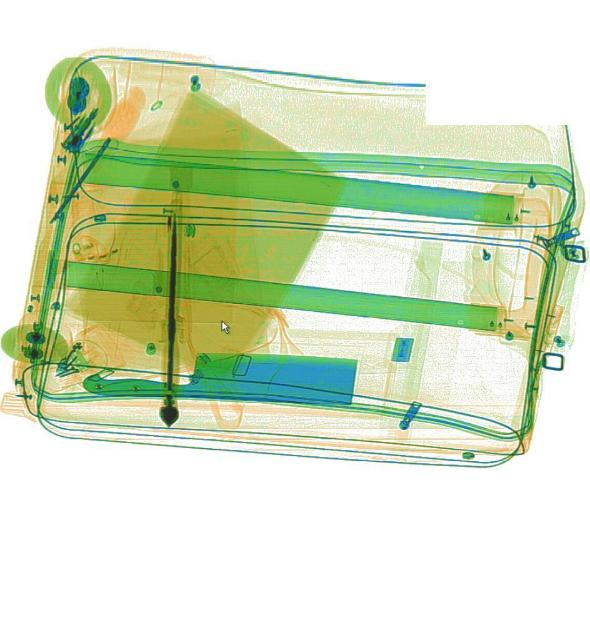Knife: (80, 348, 357, 407), (160, 212, 177, 388)
